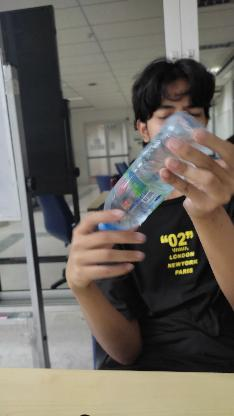Plastic Bottle: (96, 108, 210, 240)
